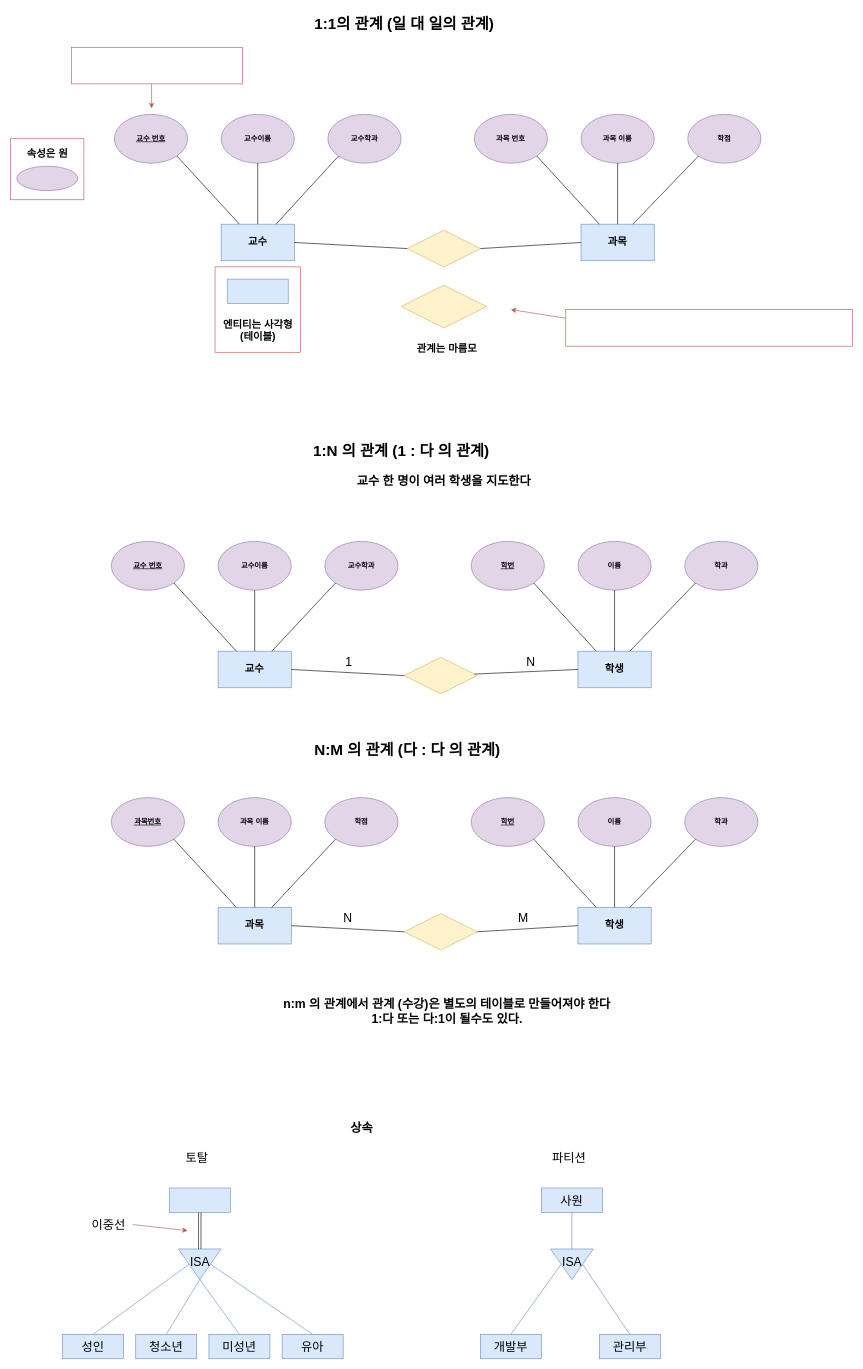
This 863x1369 diagram has some shape labels left out. The shapes that lost their labels are listed below. From the top down, each one's centre as x and y in pixels, then its label:
At point 156,65: "기본키는 밑줄을 그어 표현한다".
At point 47,178: "Attribute".
At point 443,248: "강의".
At point 257,290: "Entity".
At point 443,306: "Relationship".
At point 708,327: "관계(마름모)는 명사로 생각하지 말고 동사로 생각 강의하다, 지도하다, 수강하다".
At point 440,675: "지도".
At point 440,931: "수강".
At point 199,1199: "사람".
